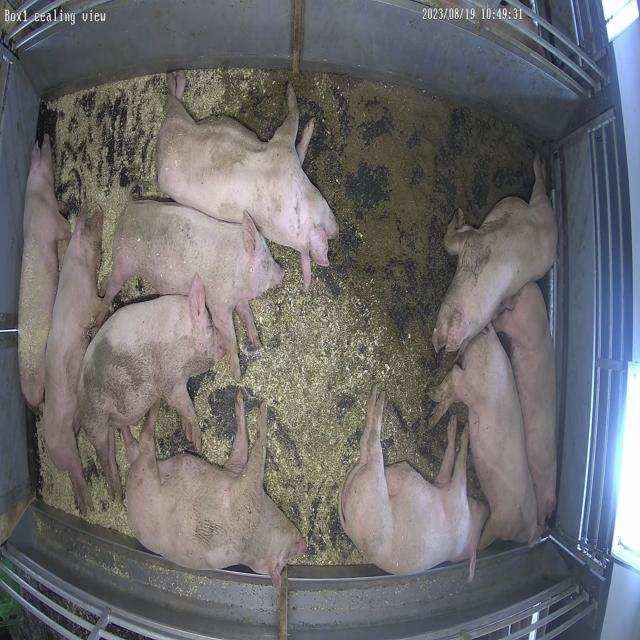Dirt: (223, 70, 537, 376)
Pig: (157, 71, 339, 288), (125, 396, 306, 584), (106, 200, 284, 378), (78, 281, 224, 496), (340, 391, 486, 576), (433, 156, 559, 352), (432, 325, 542, 548), (44, 210, 107, 516), (494, 283, 558, 530), (17, 134, 69, 408)
